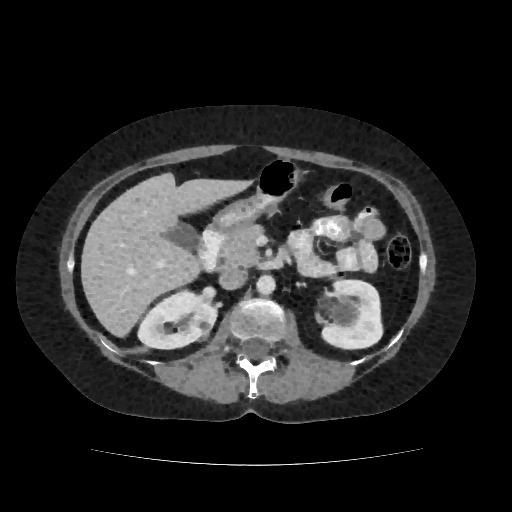Lesion: (327, 292, 365, 328)
